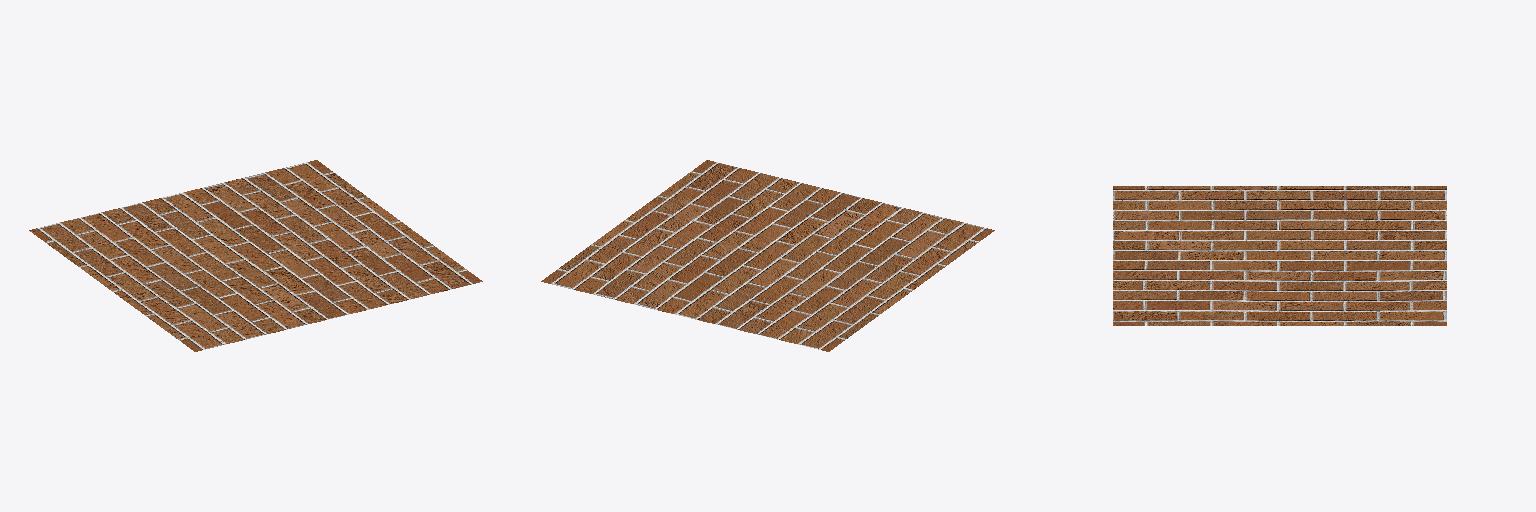
3 renders of one model, left to right at view 1: azimuth 30°, elevation 25°; view 2: azimuth 150°, elevation 25°; view 3: azimuth 270°, elevation 25°, orthographic.
Visible parts, largest first — view 1: Plane; view 2: Plane; view 3: Plane.
Part boxes in pixels (x1,y1,x2,y2): Plane: (29, 160, 482, 351); Plane: (541, 160, 994, 351); Plane: (1113, 186, 1446, 325).
Bounding box in the file's own units: 2 × 0 × 2.
Materials: 1 (1 with a texture image).